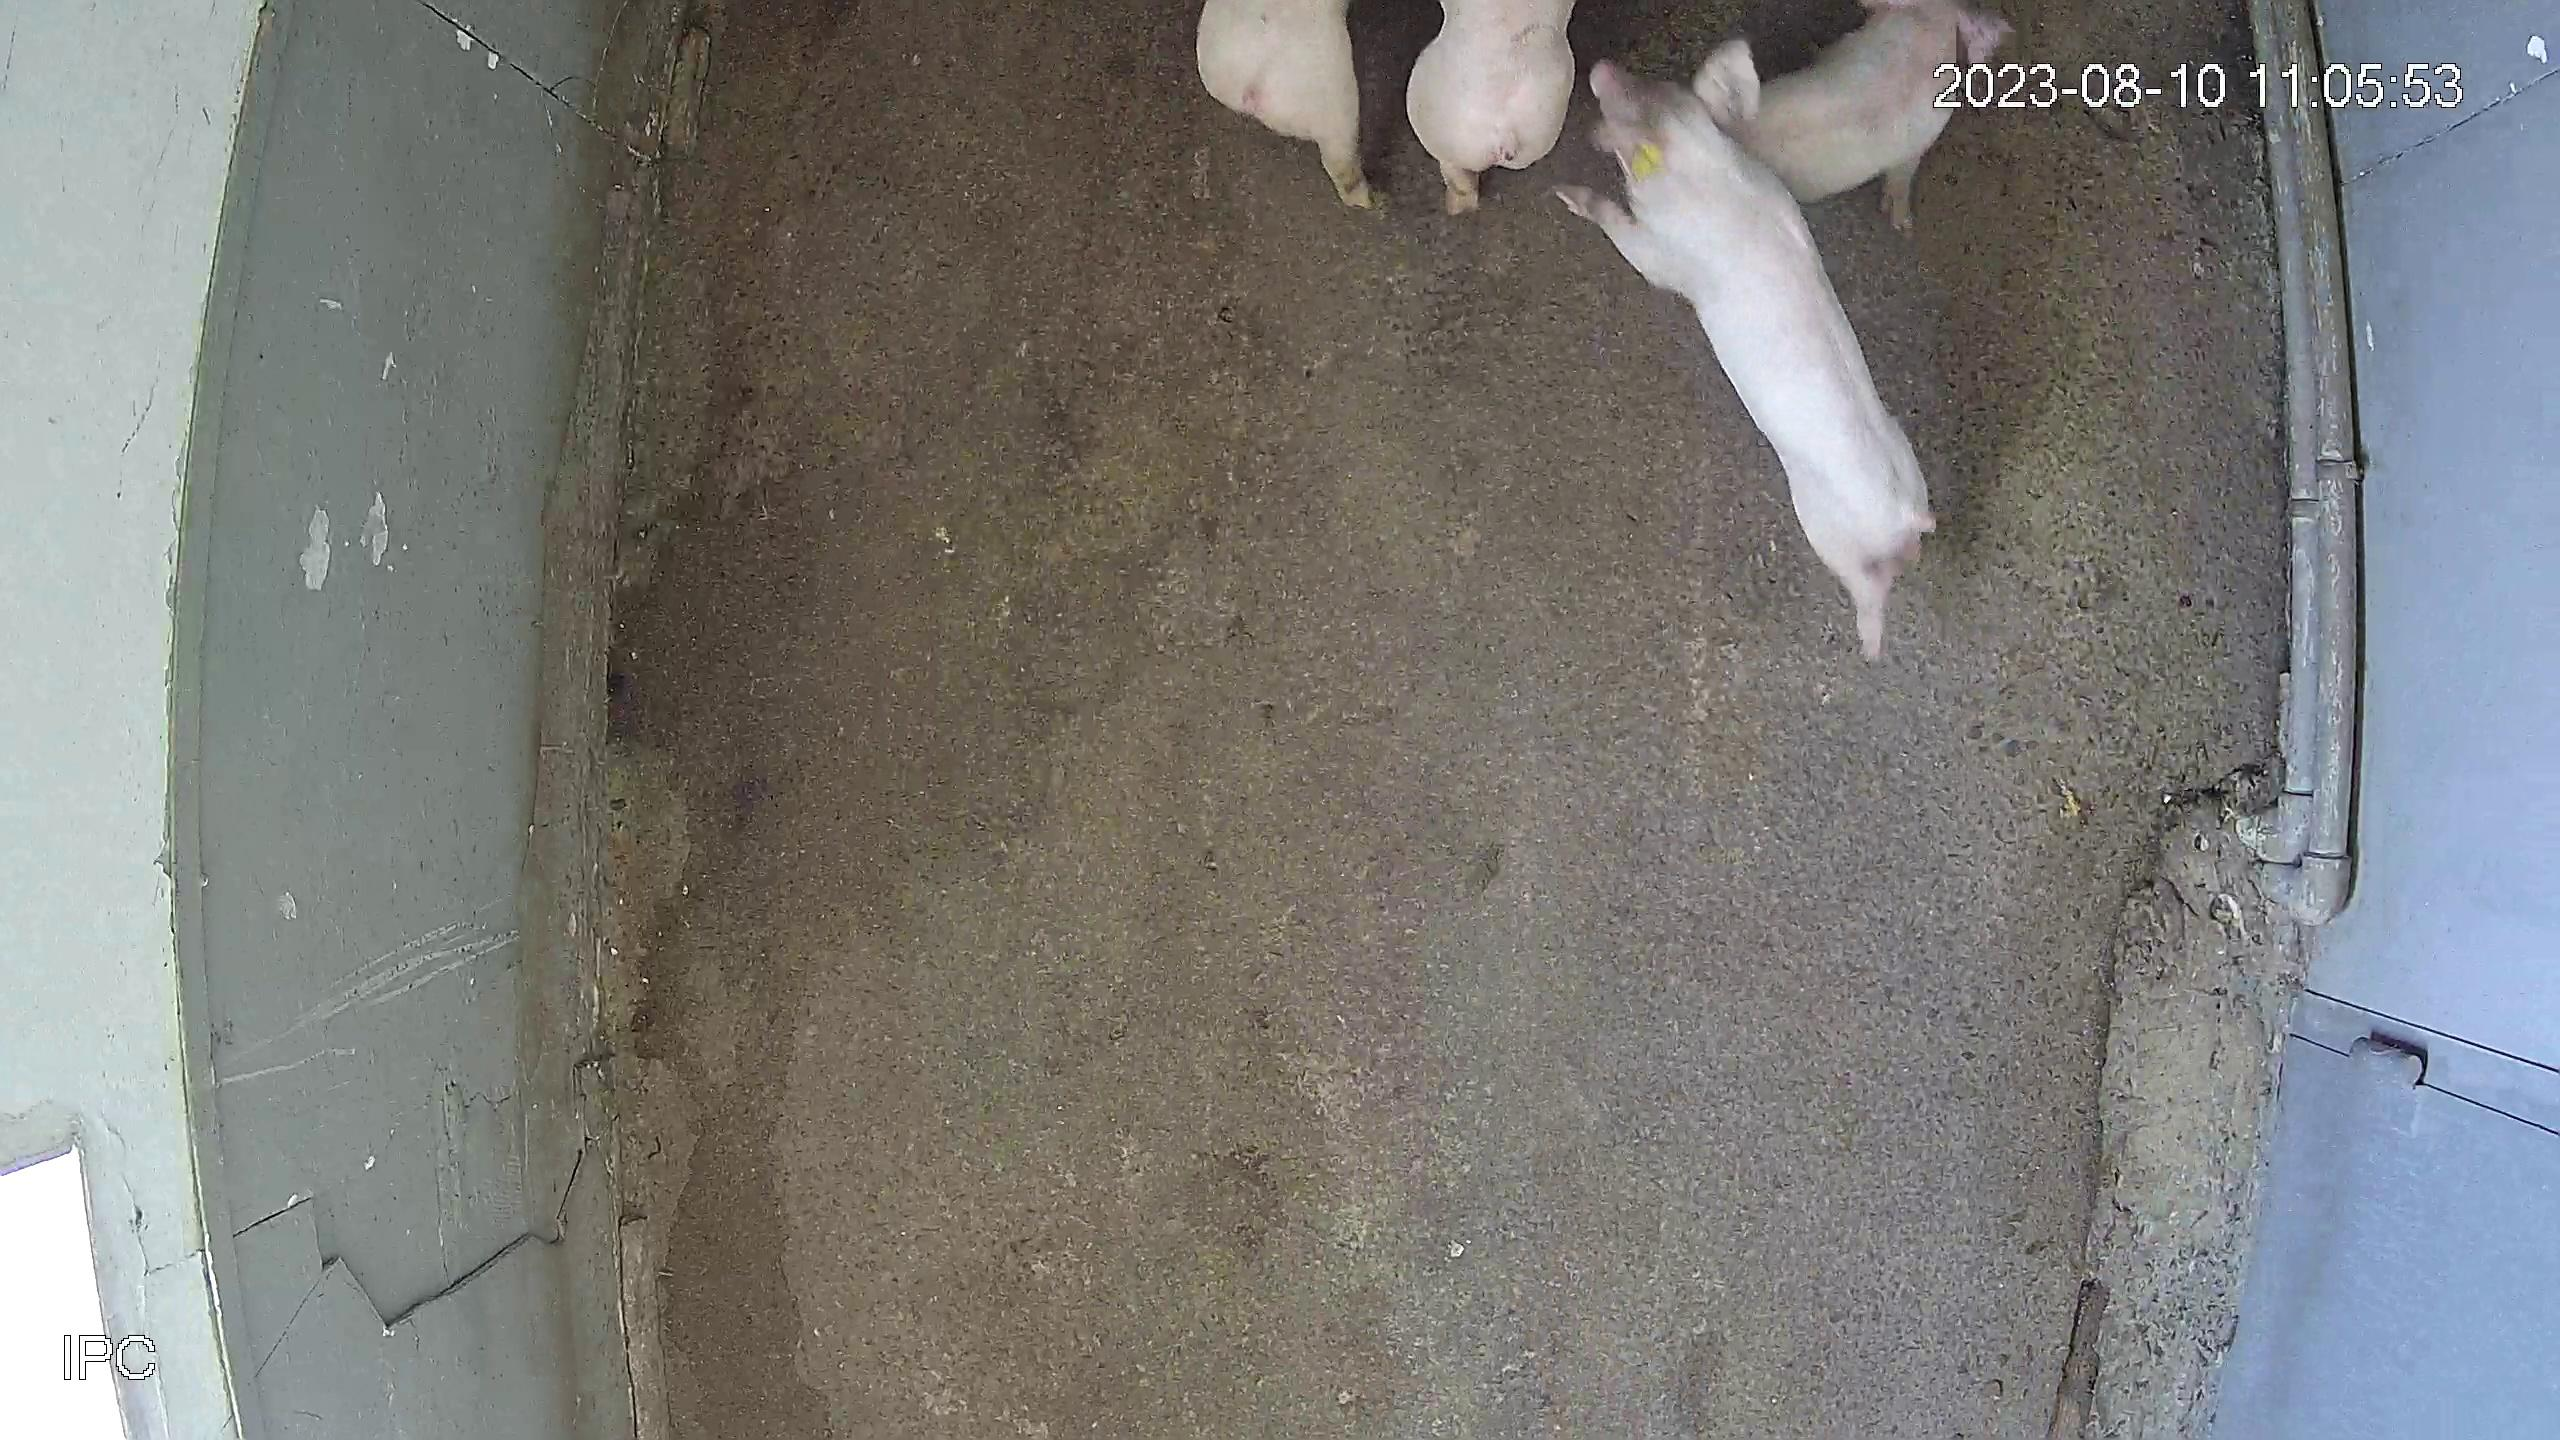Pig: (1558, 35, 1938, 656), (1741, 0, 2013, 230), (1197, 0, 1371, 204), (1408, 0, 1575, 211)
